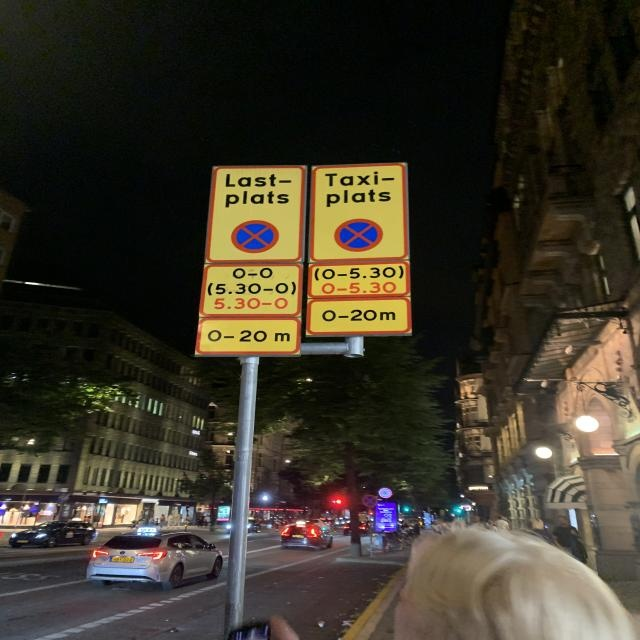lastplats: (202, 161, 308, 262)
